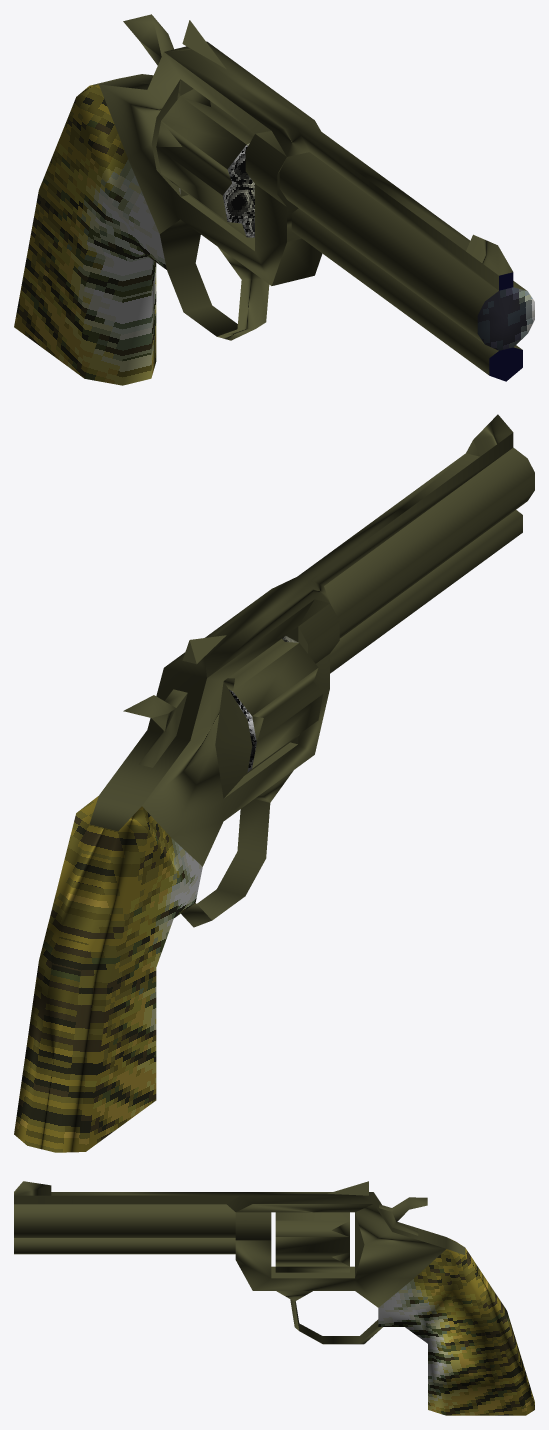
3 renders of one model, top to bottom at view 1: azimuth 30°, elevation 25°; view 2: azimuth 150°, elevation 25°; view 3: azimuth 270°, elevation 25°, orthographic. The views are drawn at different scales.
Parts seen in each view (by area): view 1: gun; view 2: gun; view 3: gun.
Part boxes in pixels (<box>): gun: <box>14,14,534,385</box>; gun: <box>14,414,534,1152</box>; gun: <box>14,1181,534,1415</box>.
Bounding box in the file's own units: 50.48 × 192 × 404.
Materials: 4 (4 with a texture image).
